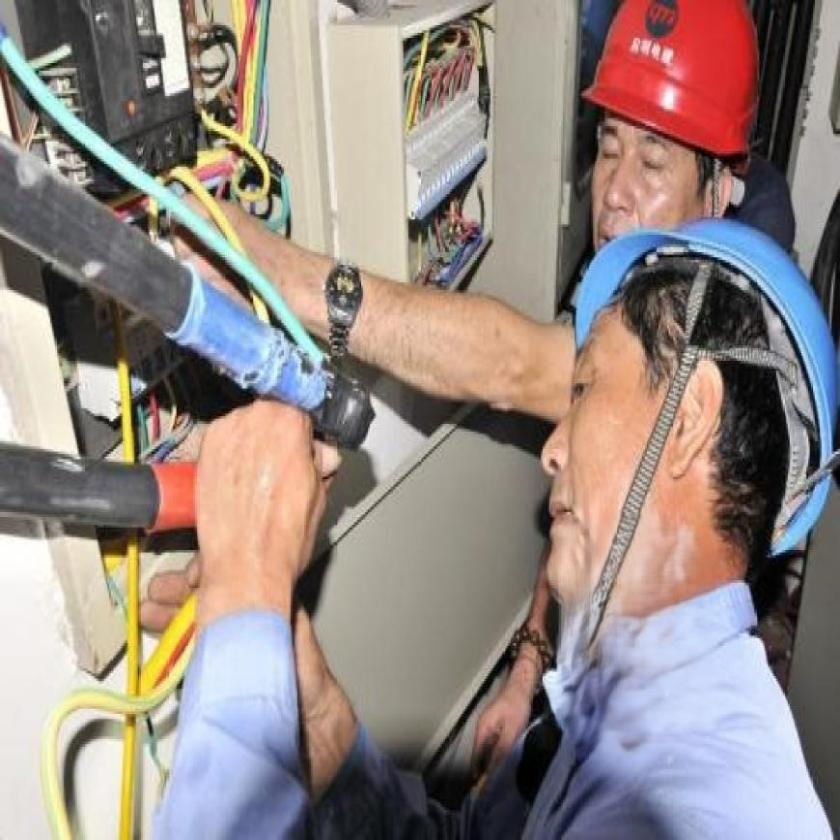Con_casco: (537, 229, 838, 584), (578, 5, 758, 261)
